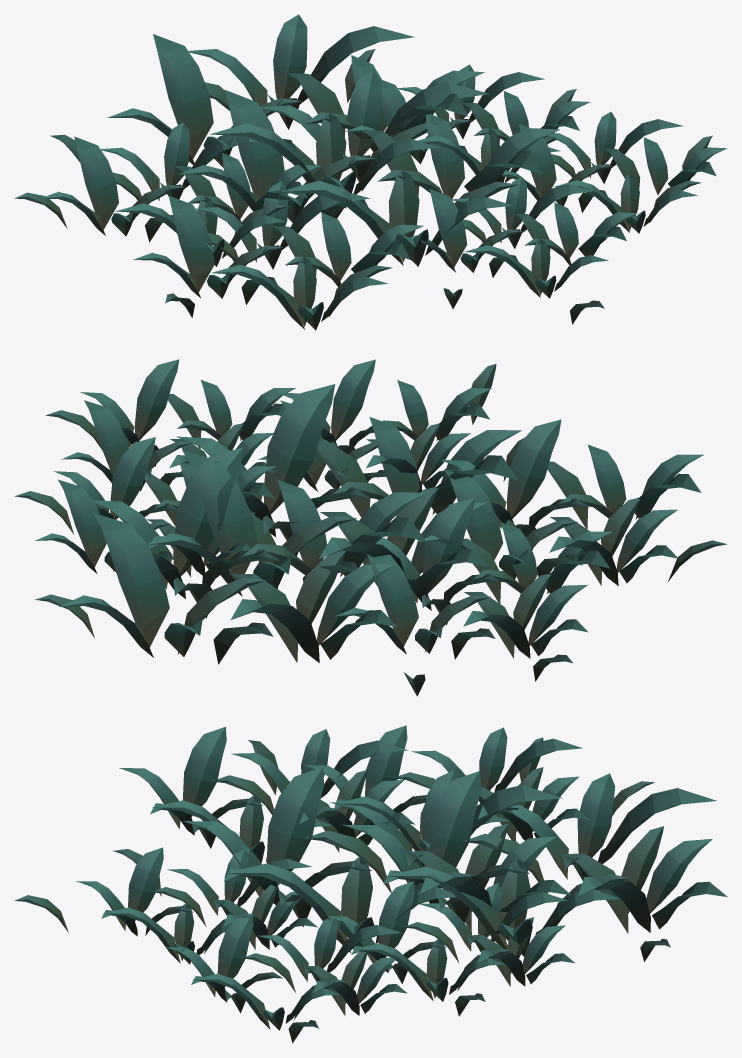
The model's file is grass_1.fbx.
3 renders of one model, top to bottom at view 1: azimuth 30°, elevation 25°; view 2: azimuth 150°, elevation 25°; view 3: azimuth 270°, elevation 25°, orthographic. The views are drawn at different scales.
Parts seen in each view (by area): view 1: grass_1; view 2: grass_1; view 3: grass_1.
Boxes of the visible parts, x1,y1,x2,y2 form: grass_1: (14, 14, 727, 330); grass_1: (14, 359, 727, 696); grass_1: (14, 725, 727, 1043).
Size of the model in its own units: 244 by 36.5 by 252.
